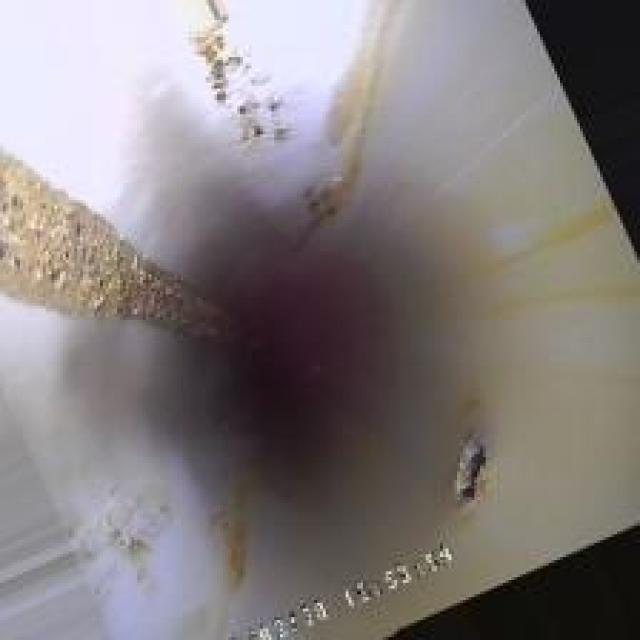ferrule: (437, 428, 500, 506)
